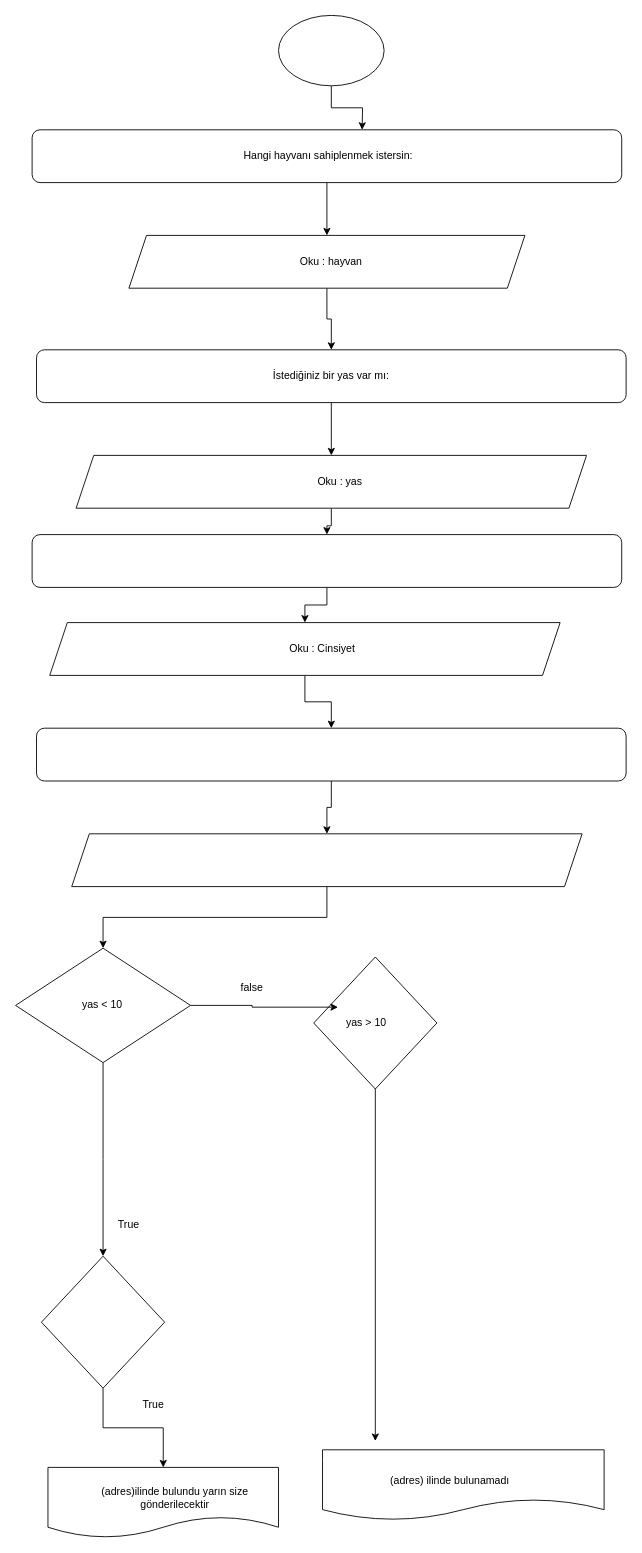
Some shapes in this 642 by 1553 pixel diagram are drawn without their labels. Each missing label, with the centre of its shape:
Başla: the point at 331,50
Oku : Adres: the point at 326,860
Peki cinsiyeti ne olsun(erkek ya da dişi):: the point at 326,560
Size gönderebilmek için yaşasığınız ili yazmanız gerek: :: the point at 331,754
yas = 10: the point at 103,1321
